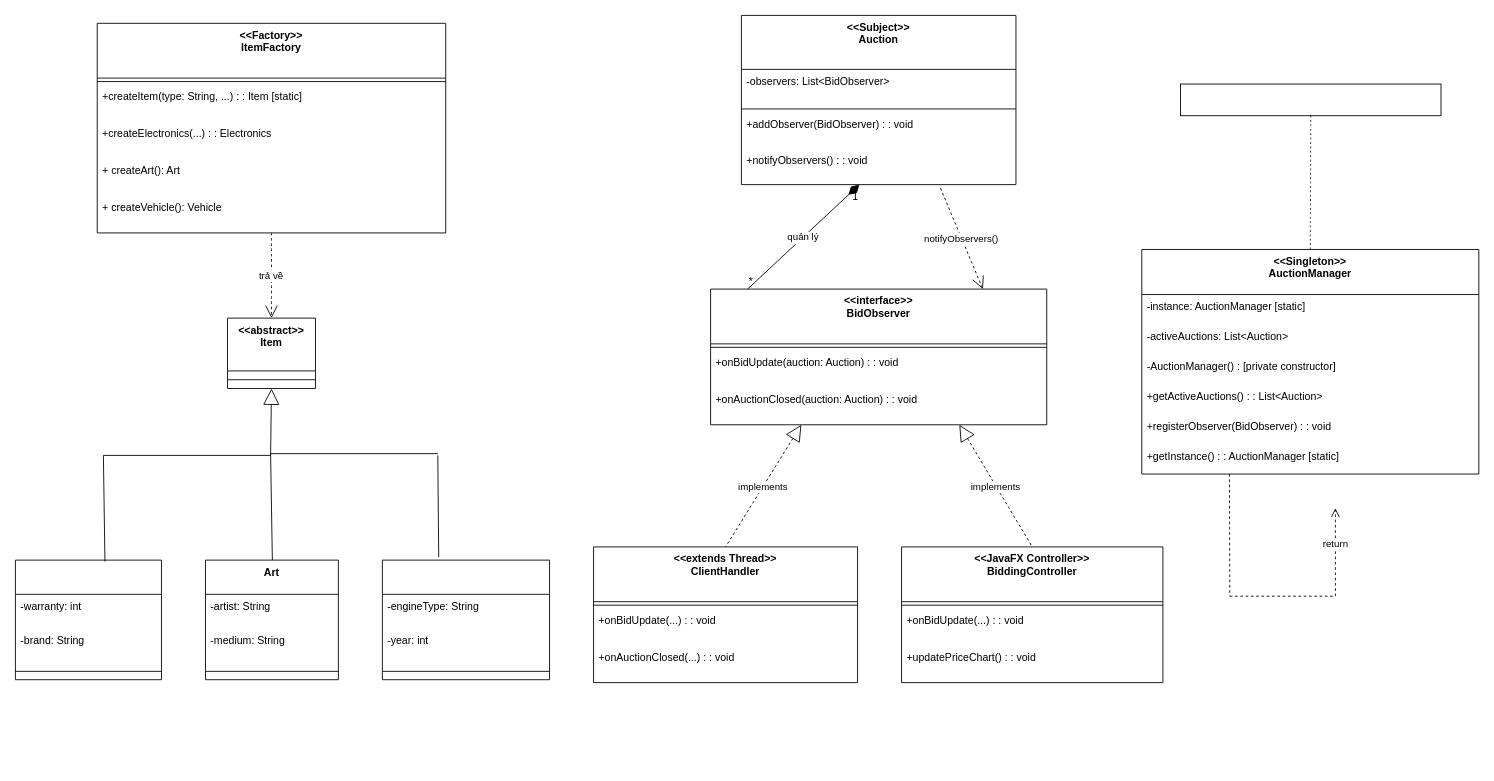
Some shapes in this 1494 by 781 pixel diagram are drawn without their labels. Here are the shapes that lost their labels. From the top down, the box of each, then its label:
(1180, 83, 1441, 116): private constructor = không new được
(15, 559, 161, 680): Electronics
(381, 559, 550, 680): Vehicle
